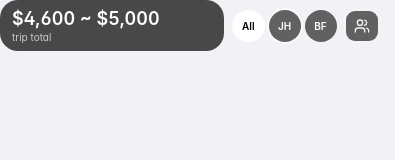
Test: TravellerBar › offers an explicit way back to the total
Step 1. Click the button with aria-label "Bruno Fabián" → (320, 26), box top-left (304, 10), bottom-right (336, 42)
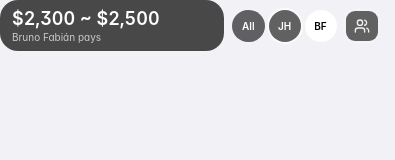
Step 2. Click the button "All" → (248, 26), box top-left (232, 10), bottom-right (264, 42)
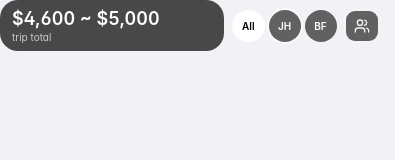
Check: the text "trip total" is shown, box top-left (12, 30), bottom-right (51, 42)
